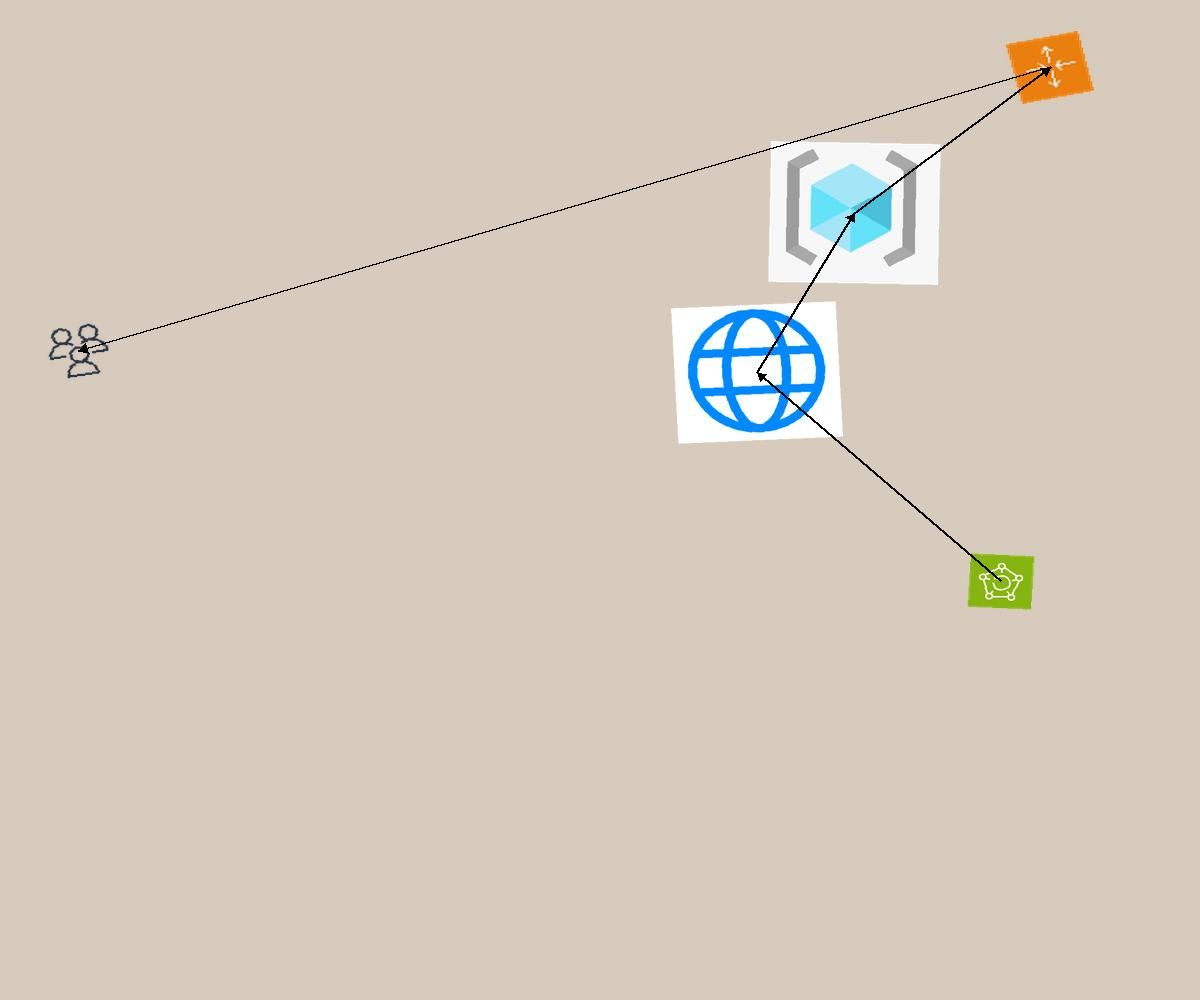AWS-Backup: (967, 553, 1035, 610)
AWS-Res_Users: (39, 318, 118, 384)
AWS-Scaling-group: (1006, 31, 1094, 104)
Azure_http: (671, 301, 843, 444)
Azure_resource_group: (768, 141, 941, 285)
